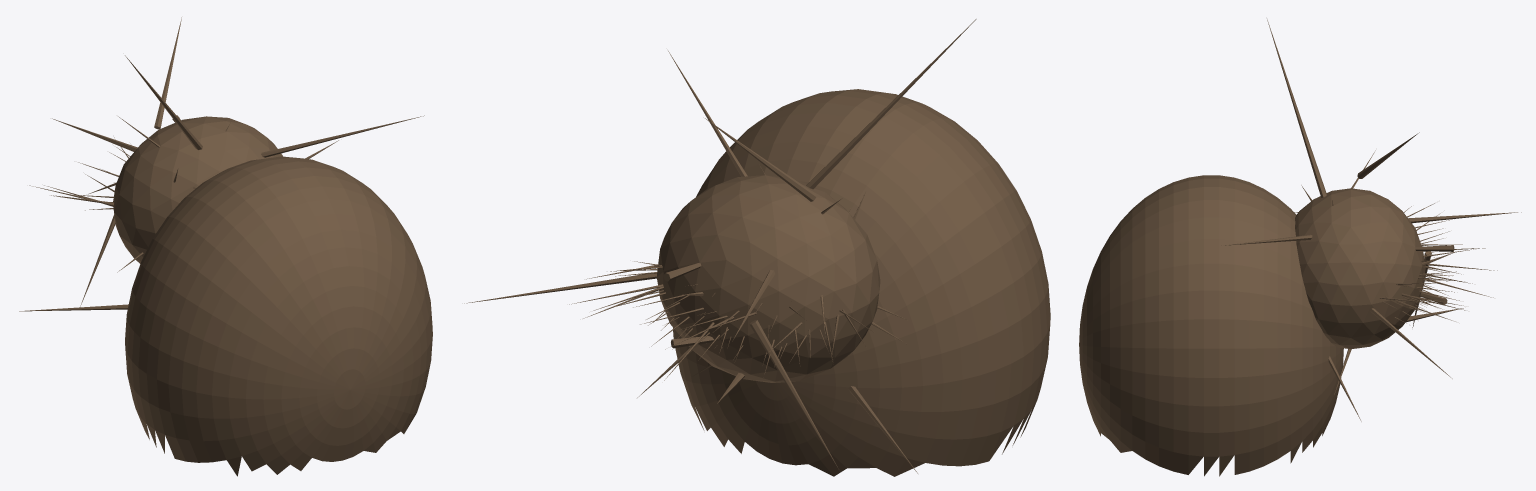
File: high_bun.glb
3 views of the same model, side by side, from view 1: azimuth 30°, elevation 25°; view 2: azimuth 150°, elevation 25°; view 3: azimuth 270°, elevation 25° (orthographic). The views are drawn at different scales.
Parts seen in each view (by area): view 1: part_000, part_091, part_114, part_126, part_123; view 2: part_000, part_091, part_126, part_122, part_111, part_123; view 3: part_000, part_091, part_126.
Boxes of the visible parts, x1=… form: part_000: x1=125, y1=156, x2=432, y2=476; part_091: x1=113, y1=116, x2=282, y2=263; part_114: x1=261, y1=115, x2=424, y2=157; part_126: x1=125, y1=55, x2=202, y2=149; part_123: x1=154, y1=17, x2=181, y2=129; part_000: x1=673, y1=89, x2=1050, y2=476; part_091: x1=656, y1=175, x2=880, y2=382; part_126: x1=806, y1=19, x2=976, y2=189; part_122: x1=749, y1=320, x2=838, y2=469; part_111: x1=464, y1=273, x2=656, y2=303; part_123: x1=705, y1=118, x2=816, y2=201; part_000: x1=1079, y1=175, x2=1343, y2=476; part_091: x1=1295, y1=188, x2=1425, y2=349; part_126: x1=1267, y1=19, x2=1326, y2=197.
Size of the model in its own units: 0.2689 by 0.2806 by 0.3176.
